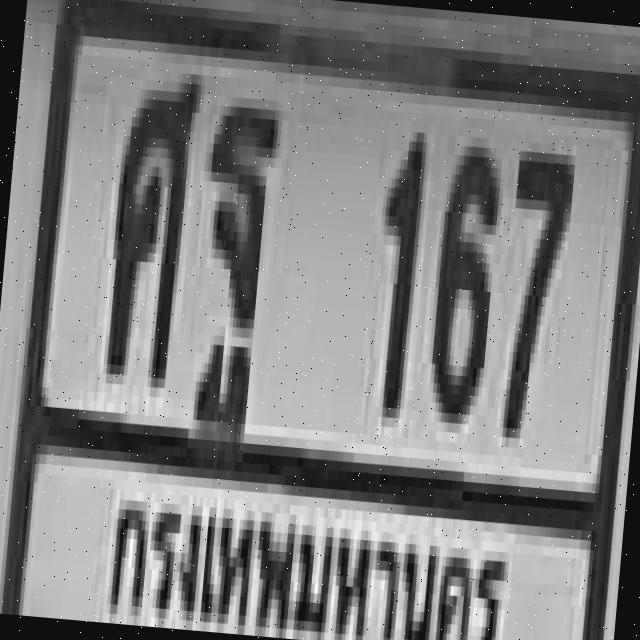1: (364, 120, 424, 408)
25ThorThan: (189, 96, 280, 387)
47SorSala: (100, 63, 198, 374)
6: (424, 134, 500, 414)
7: (492, 141, 572, 431)
